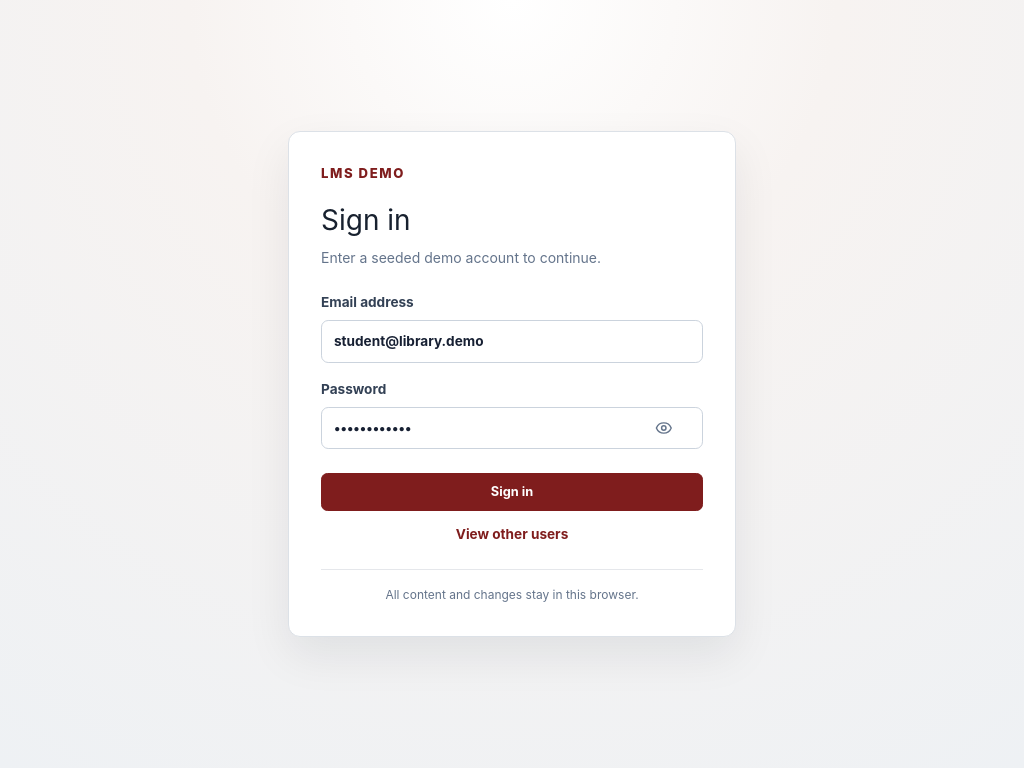
Test: opens the notification popover and profile route
This screenshot has width=1024, height=768.
Replace the text in the field labelled "Email" with "faculty@library.demo" at (512, 341), box [321,320,703,362]
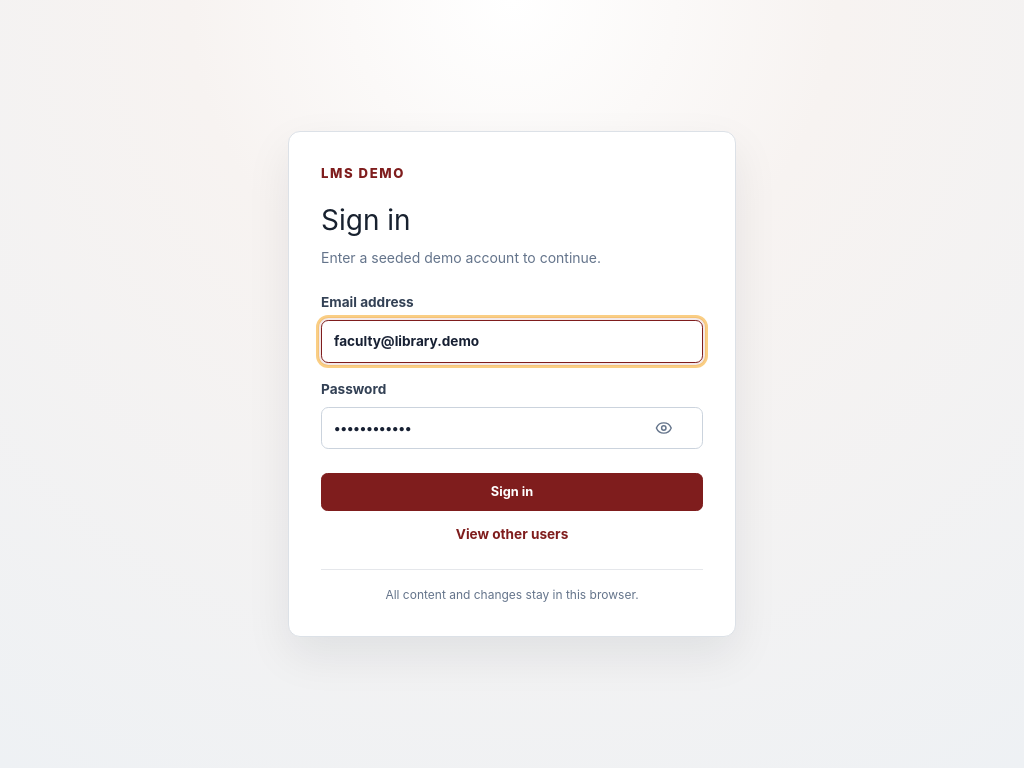
Click the button "Sign in" at (512, 492), box [321,473,703,511]
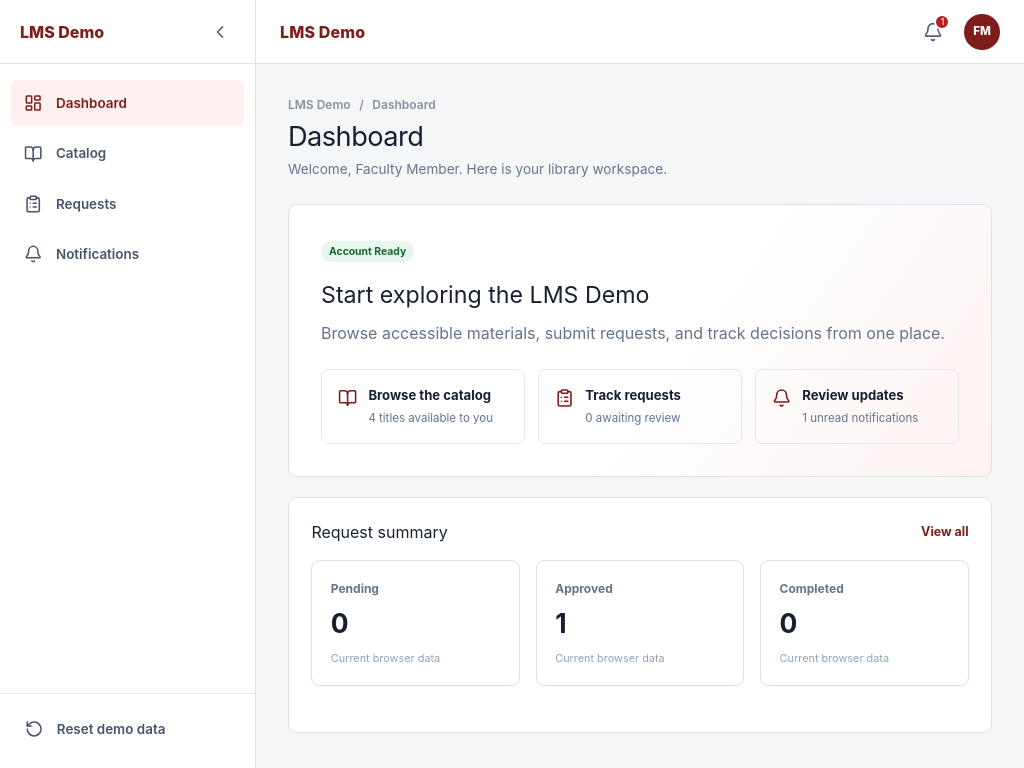
Click the button named "Notifications" at (933, 32), box [914,13,952,50]
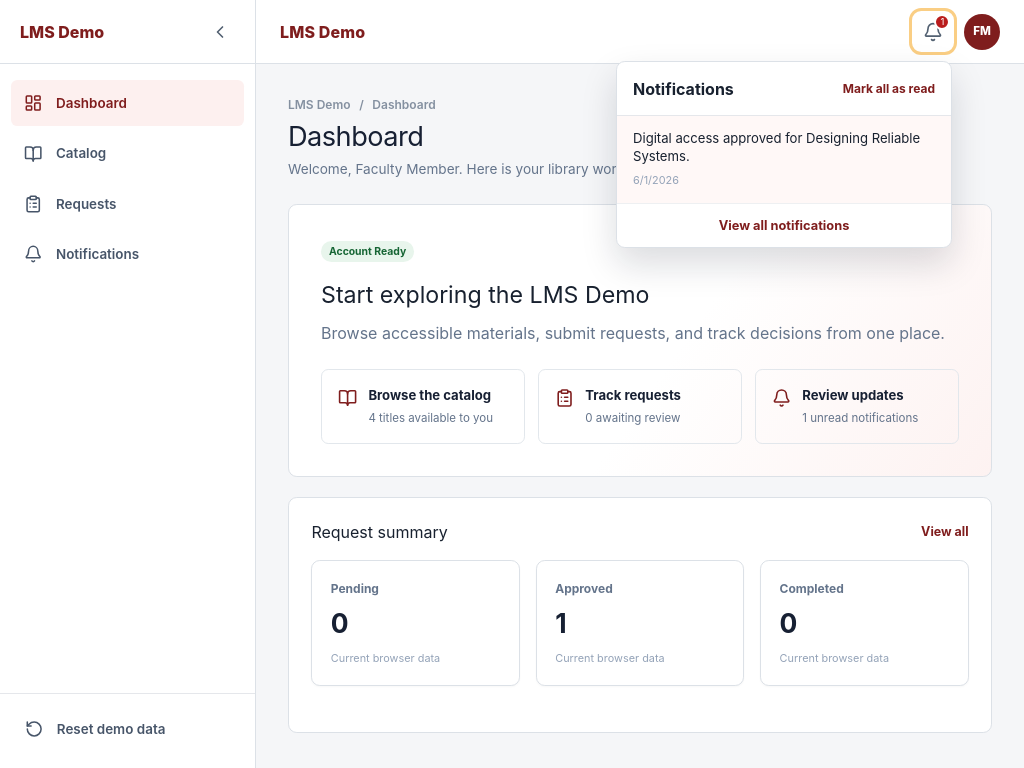
Now the link "View all notifications" is shown, box [719,218,849,233]
Click the button with aria-label "Open account menu" at (982, 32), box [964,14,1000,50]
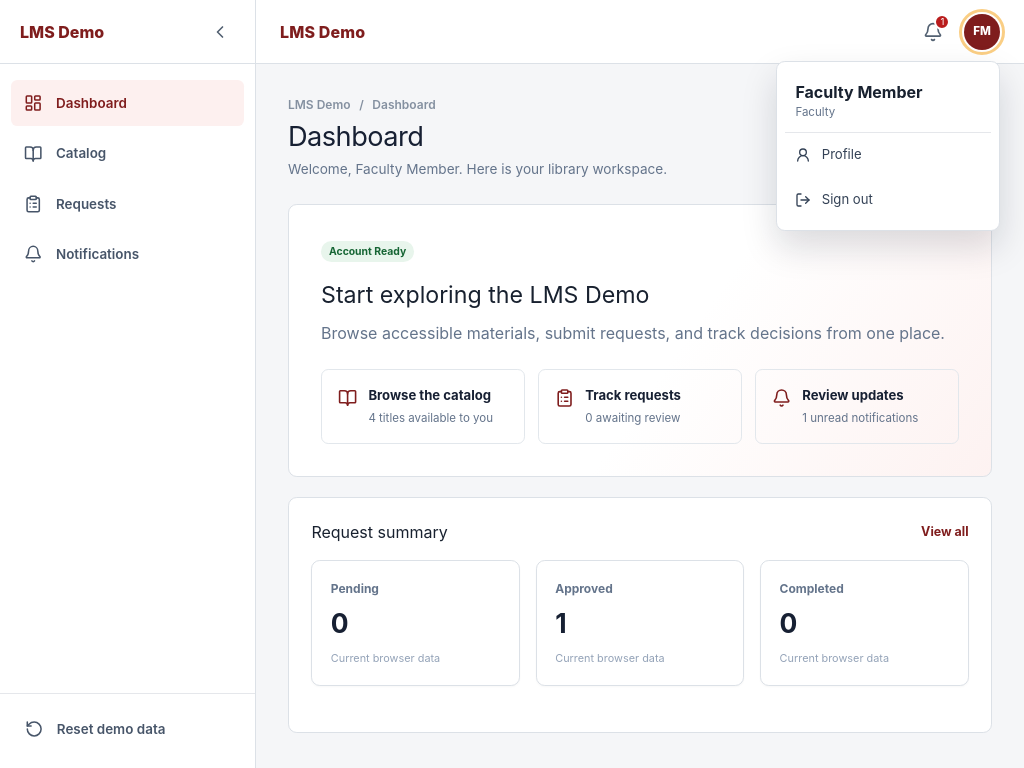
Click the link "Profile" at (888, 155), box [785,133,991,178]
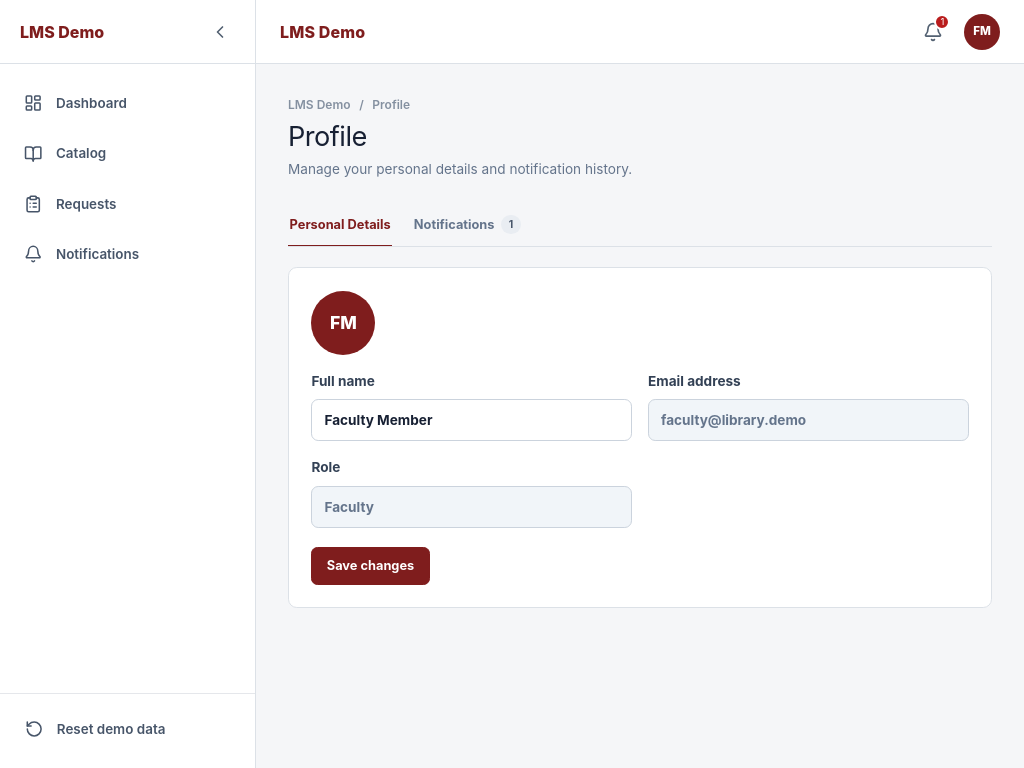
Now the heading "Profile" is shown, box [288,120,367,153]
